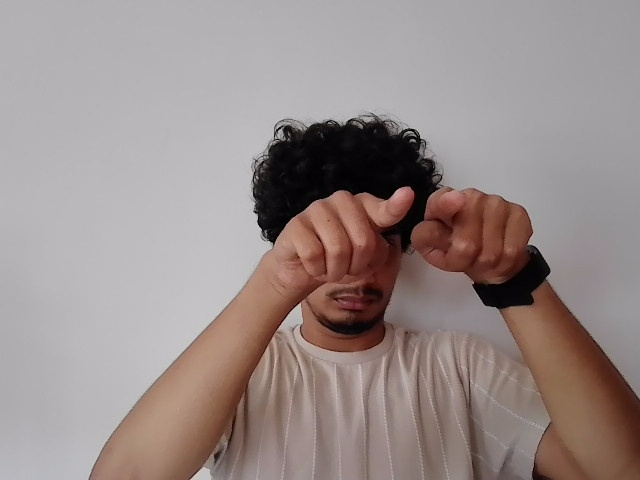same: (283, 186, 533, 288)
